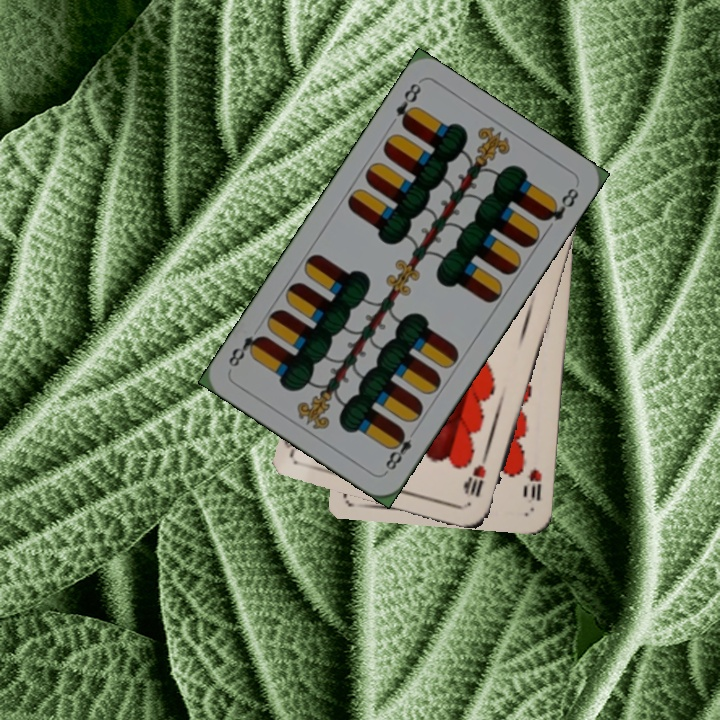E8: (381, 425, 420, 475), (391, 78, 424, 131)
H10: (462, 448, 491, 500), (520, 464, 545, 505)
